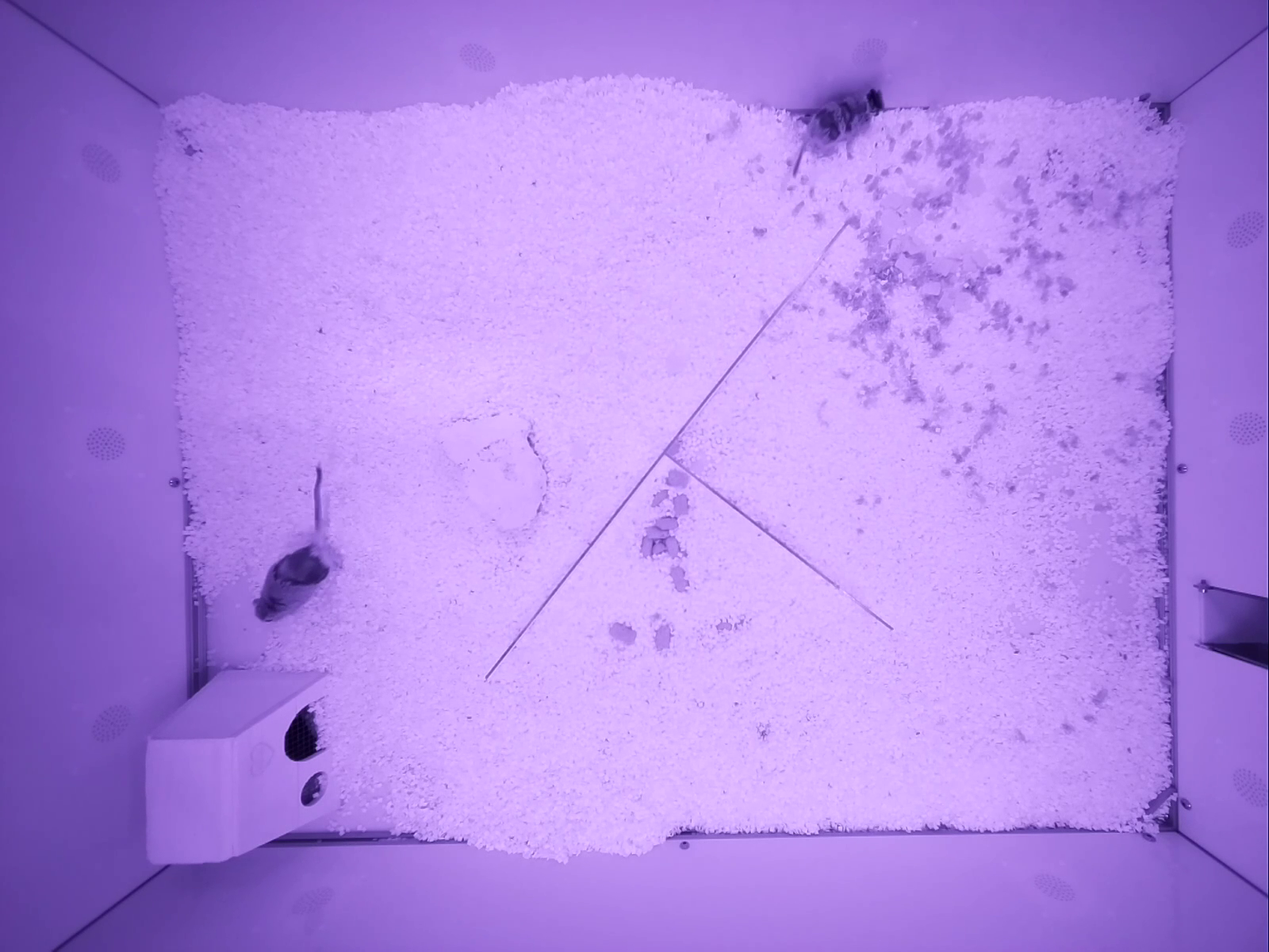adult_back: (254, 466, 332, 620), (792, 89, 884, 174)
